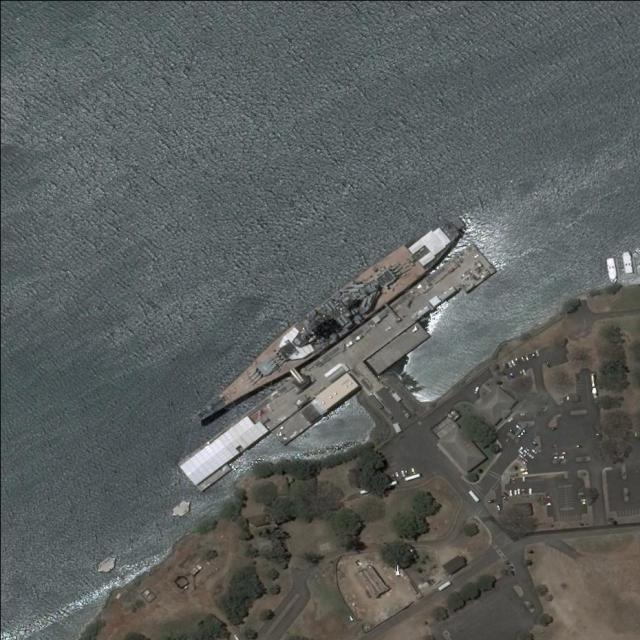Dock: (179, 243, 494, 489)
Other Warship: (182, 212, 467, 438)
